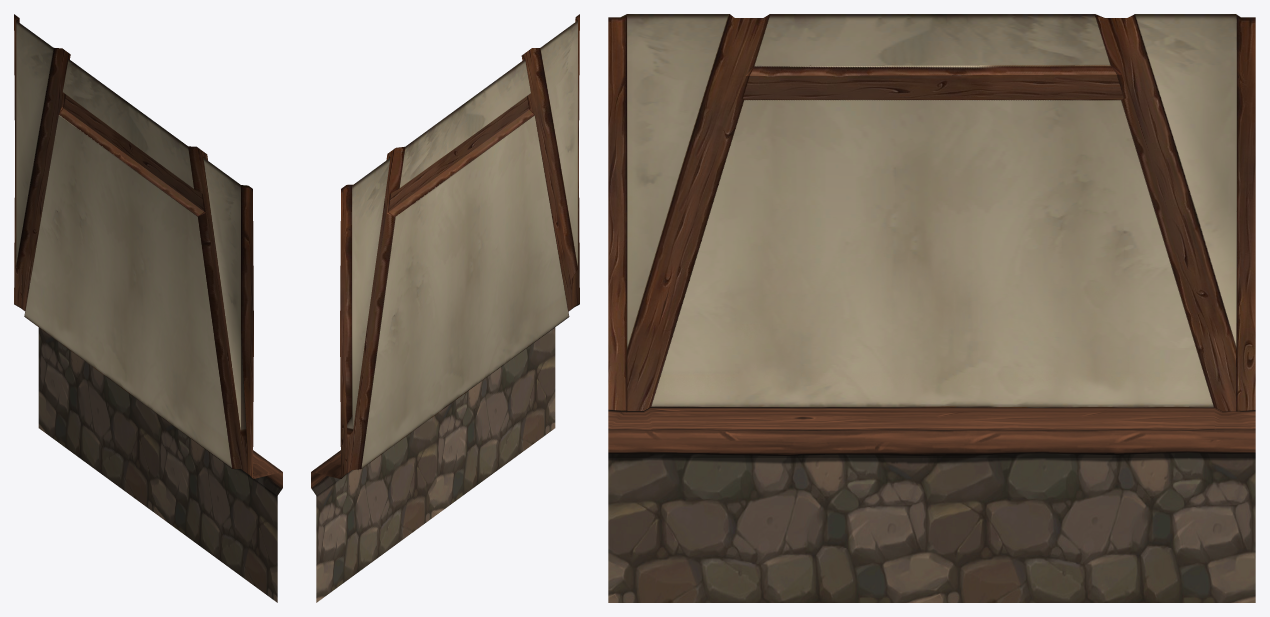
Rendered from Wall_3.fbx.
3 renders of one model, left to right at view 1: azimuth 30°, elevation 25°; view 2: azimuth 150°, elevation 25°; view 3: azimuth 270°, elevation 25°, orthographic. The views are drawn at different scales.
Parts seen in each view (by area): view 1: pCube4; view 2: pCube4; view 3: pCube4.
Part boxes in pixels (x1,y1,x2,y2): pCube4: [14, 14, 282, 602]; pCube4: [311, 14, 579, 602]; pCube4: [608, 14, 1255, 602].
Bounding box in the file's own units: 0.8457 × 9.7 × 10.
